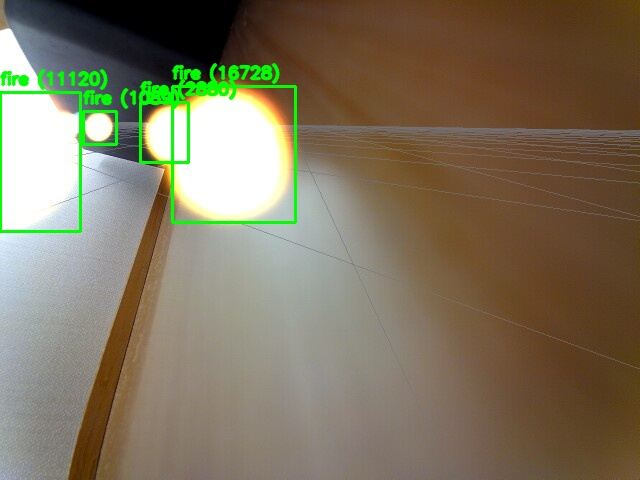fire: (172, 86, 295, 222), (0, 92, 80, 231), (140, 102, 188, 162), (83, 111, 116, 144)
